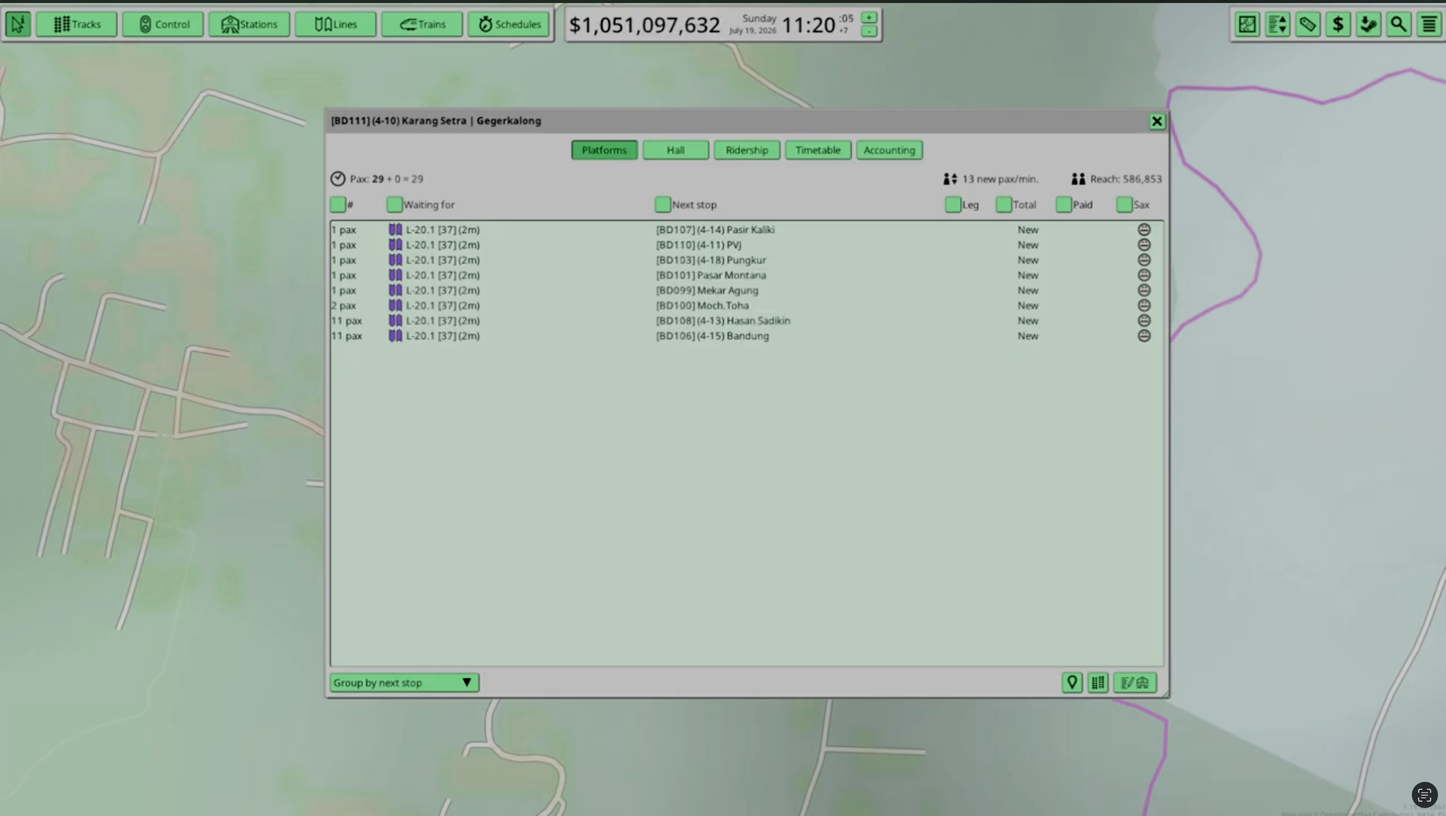passenger_increase: (332, 316, 363, 328), (332, 331, 363, 342), (332, 240, 357, 252), (331, 225, 357, 236), (331, 286, 357, 297), (331, 301, 357, 312), (332, 271, 357, 282), (331, 256, 357, 266)
station_id: (656, 240, 696, 251), (655, 285, 695, 296), (656, 255, 695, 266), (656, 270, 695, 281), (656, 300, 695, 311), (656, 331, 695, 342), (655, 225, 696, 235), (656, 316, 695, 326)
station_name: (696, 285, 759, 297), (696, 270, 767, 280), (726, 316, 791, 326), (697, 300, 750, 310), (727, 331, 770, 343), (726, 224, 776, 234), (726, 255, 767, 266), (727, 240, 742, 251)
station_numbering: (696, 331, 725, 341), (697, 241, 725, 251), (697, 225, 724, 235), (697, 255, 724, 265), (697, 316, 724, 326)
time: (781, 13, 859, 35)
